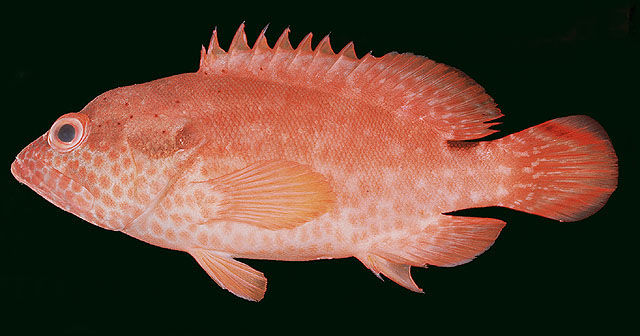fish: (16, 22, 621, 302)
